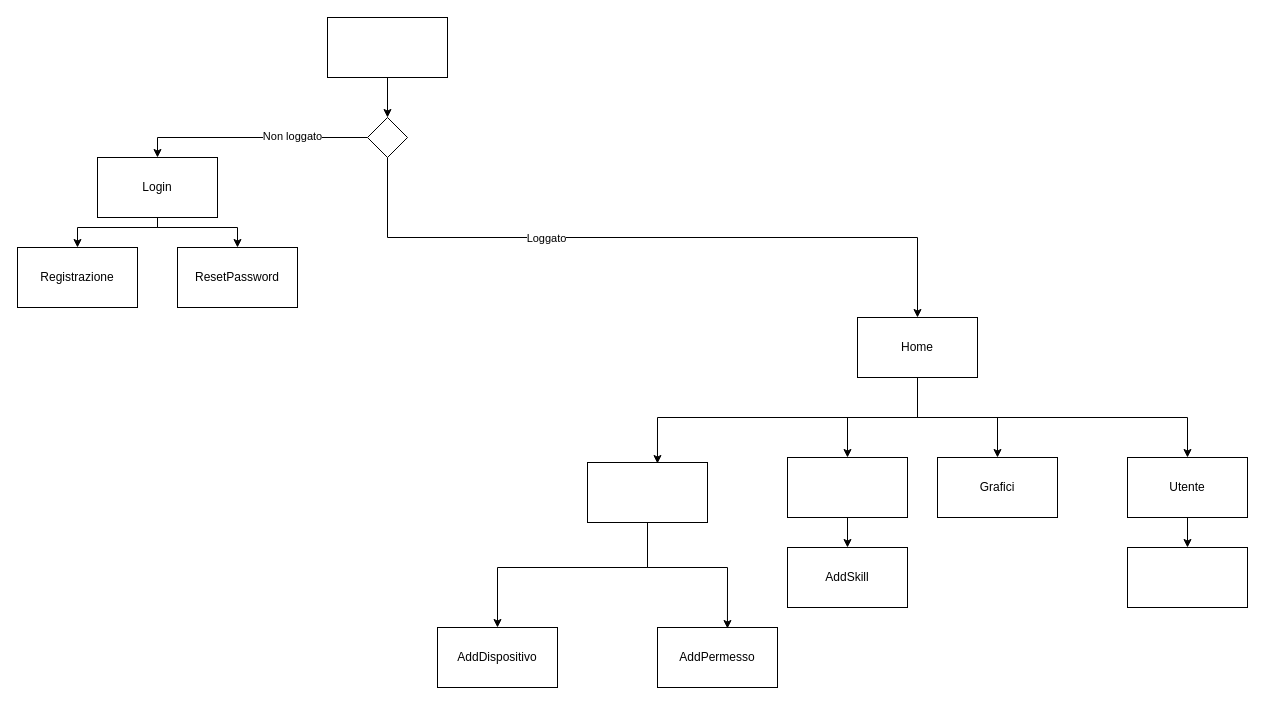
This 1265x705 diagram has some shape labels left out. The centre of each missing label's shape, as x and y in pixels:
"Impostazioni" goes at (647,492).
"Index" goes at (387,47).
"Pagina Skills" goes at (847,487).
"Profilo utente" goes at (1187,577).
